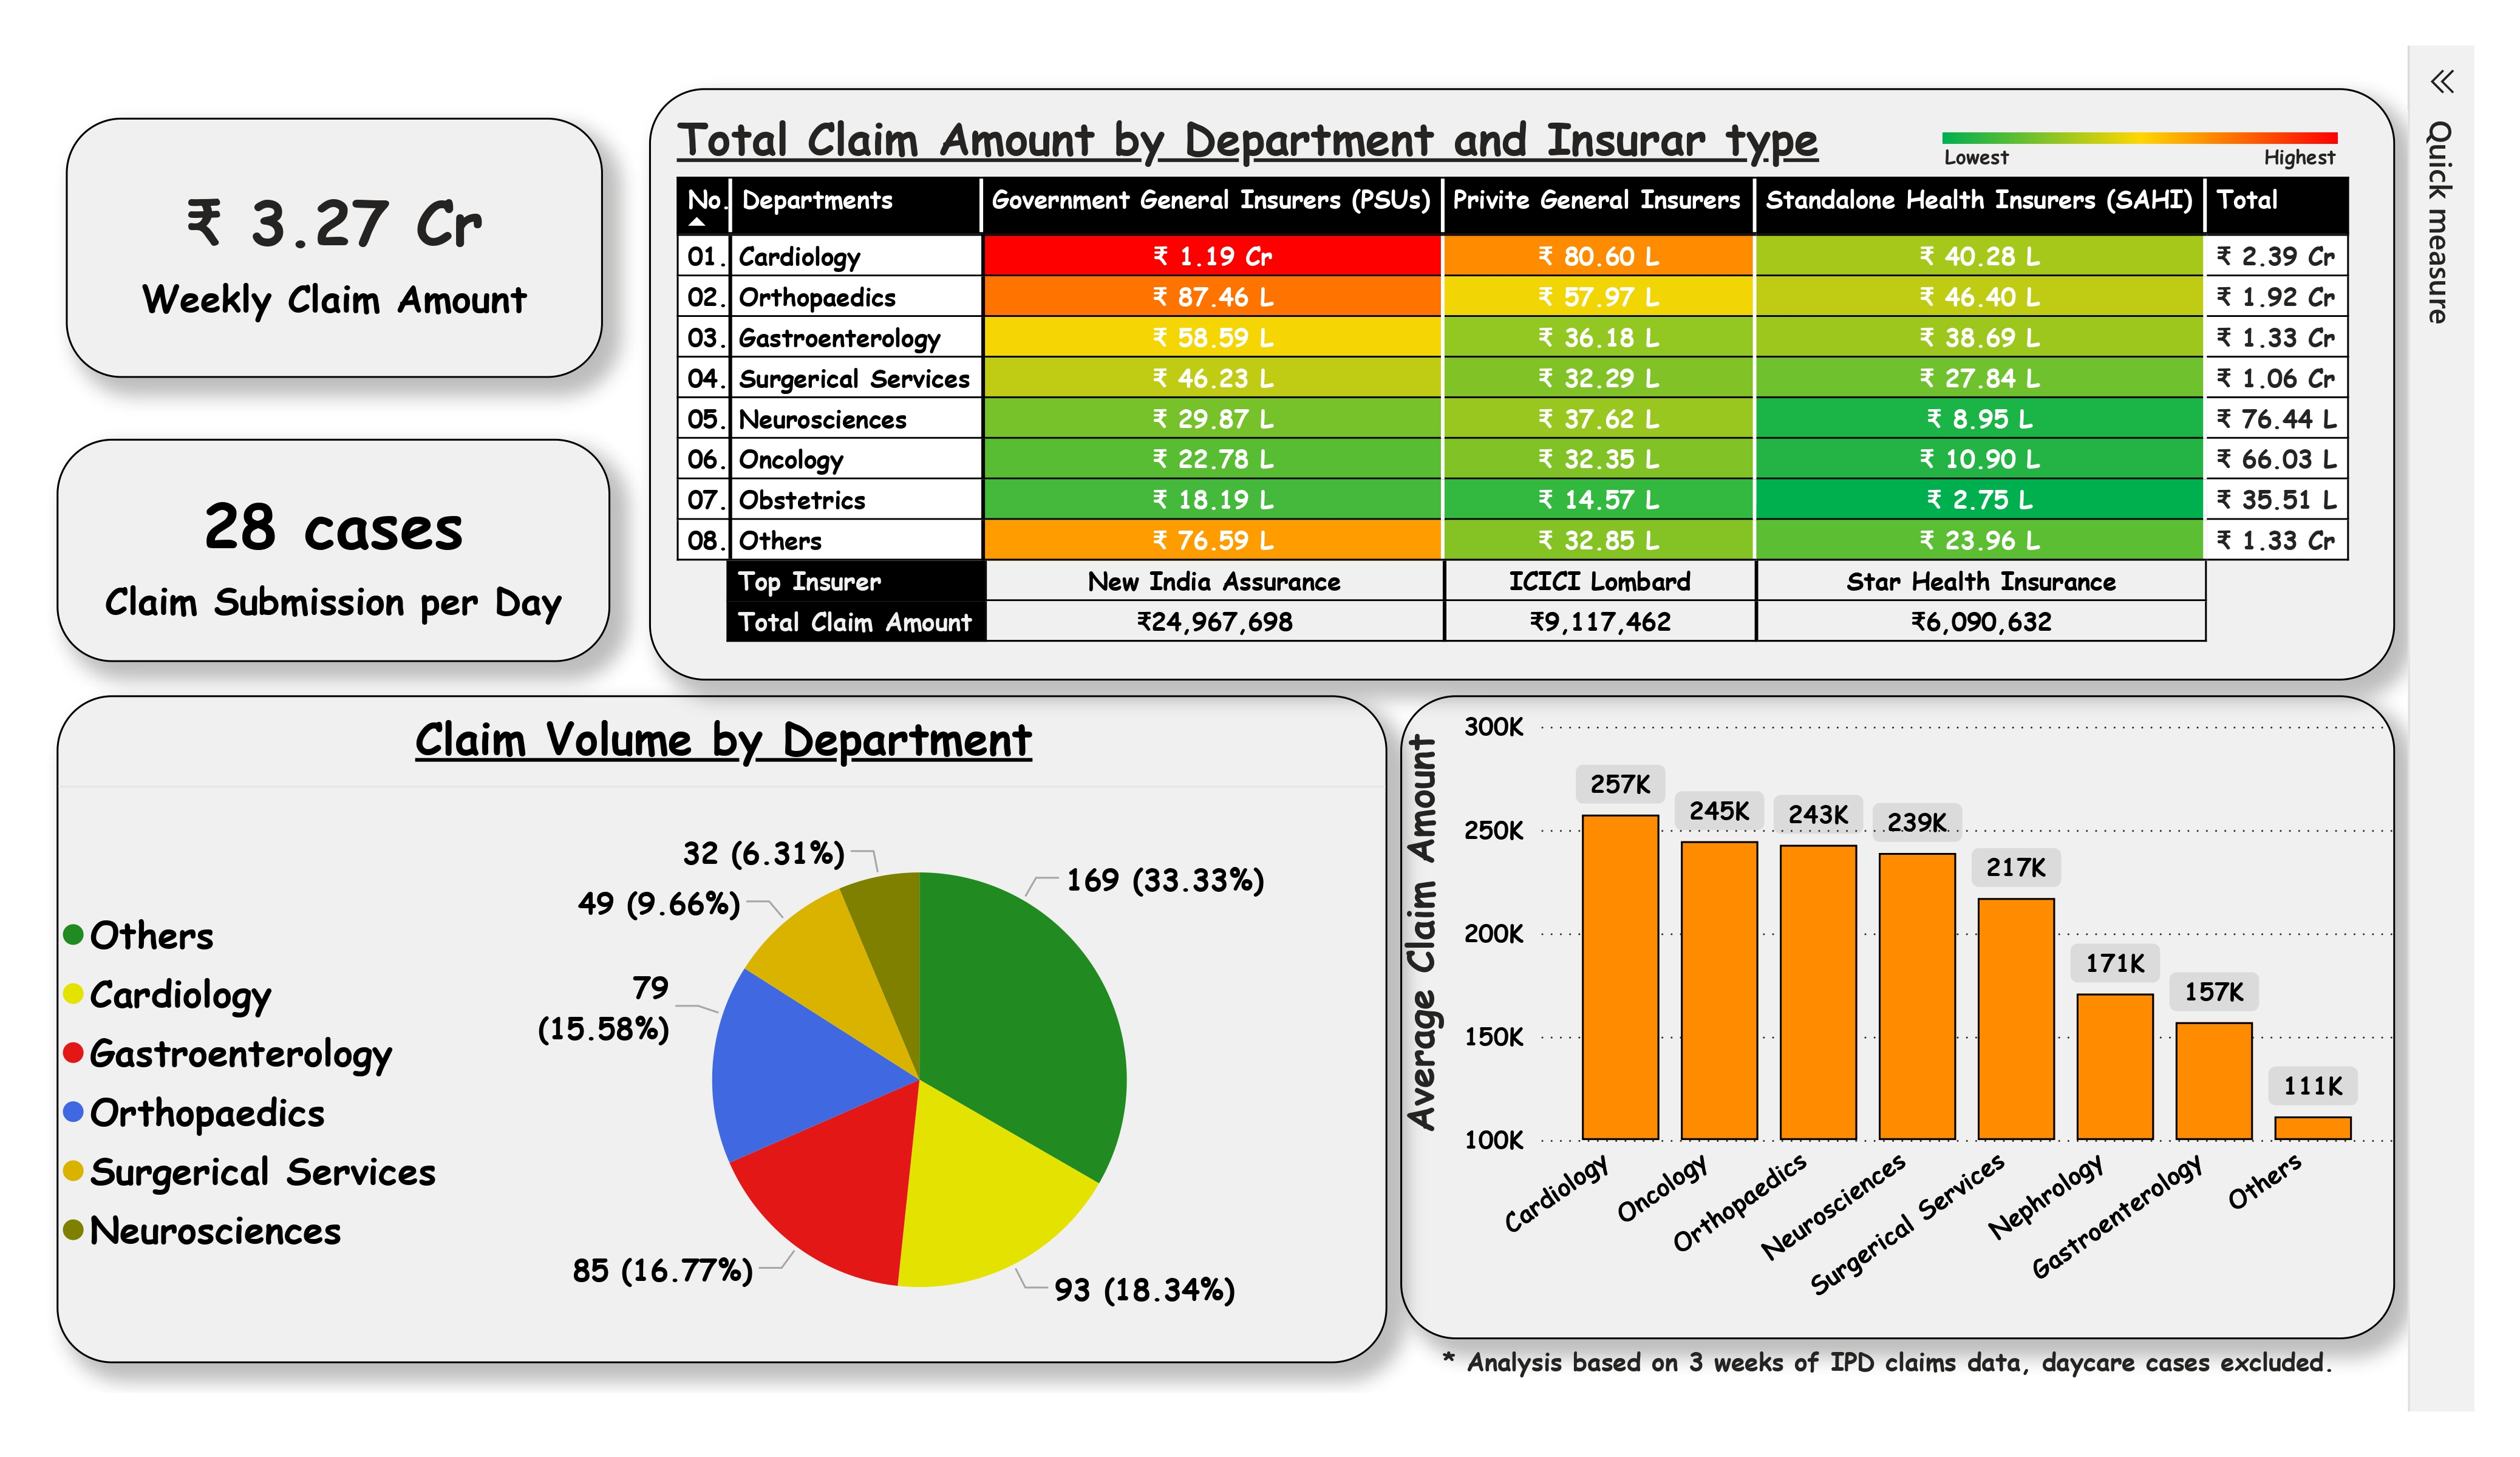

The page's visual inventory and layout, read from the dashboard file:
{"tool":"powerbi","page":{"name":"Page 1","canvas":[1280,720],"ordinal":0},"visuals":[{"type":"card","fields":{"Values":["Sheet1.Daily Claim Count"]},"box":[6.3,203.2,300,120.6],"z":0},{"type":"card","fields":{"Values":["Sheet1.weekly Claim Amount"]},"box":[11.1,28.6,290.5,141.3],"z":1000},{"type":"pivotTable","fields":{"Columns":["TopInsurerMatrix.Insurer (groups)"],"Values":["Min(TopInsurerMatrix.Measure Value)"],"Rows":["TopInsurerMatrix.Measure Name"]},"box":[353.5,239.4,816.2,94.8],"z":2000},{"type":"pieChart","title":"Claim Volume by Department","fields":{"Y":["CountNonNull(Sheet1.Departments (Pie chart))"],"Category":["Sheet1.Departments (Pie chart)"]},"box":[5.8,342.3,721.2,361.5],"z":3000},{"type":"pivotTable","title":"Total Claim Amount by Department and Insurar type","fields":{"Columns":["Sheet1.Insurer (groups)"],"Rows":["Sheet1.Departments (Heatmap)"],"Values":["Sheet1.Claim Amount (L/Cr)"]},"box":[326.9,12.9,946.2,321.5],"z":4000},{"type":"columnChart","fields":{"Category":["Sheet1.Departments (Bar Chart)"],"Y":["Avg(Sheet1.Claim Amount)"]},"box":[734.4,341.9,538.7,349.5],"z":5000},{"type":"textbox","box":[1197,34.6,57.3,36.4],"z":6000},{"type":"textbox","box":[1023.6,35,130.1,29.3],"z":7000},{"type":"image","box":[1023.5,28.7,223.5,22.6],"z":8000},{"type":"shape","box":[180,92.8,381.5,174.8],"z":9000},{"type":"shape","box":[220.5,61.5,300,29.5],"z":10000},{"type":"textbox","box":[752.2,688.4,502.9,29],"z":11000}]}

Visuals, with their boxes in screenshot pixels (x1, y1, x2, y2):
card - Sheet1.Daily Claim Count: (58, 431, 627, 660)
card - Sheet1.weekly Claim Amount: (67, 100, 618, 368)
pivotTable - TopInsurerMatrix.Insurer (groups) x Min(TopInsurerMatrix.Measure Value): (717, 500, 2265, 679)
"Claim Volume by Department" pieChart: (56, 695, 1425, 1381)
"Total Claim Amount by Department and Insurar type" pivotTable: (666, 70, 2461, 680)
columnChart - Sheet1.Departments (Bar Chart) x Avg(Sheet1.Claim Amount): (1439, 694, 2461, 1357)
textbox: (2317, 111, 2426, 180)
textbox: (1988, 112, 2235, 168)
image: (1987, 100, 2412, 143)
shape: (387, 222, 1111, 553)
shape: (464, 162, 1034, 218)
textbox: (1473, 1351, 2427, 1407)
